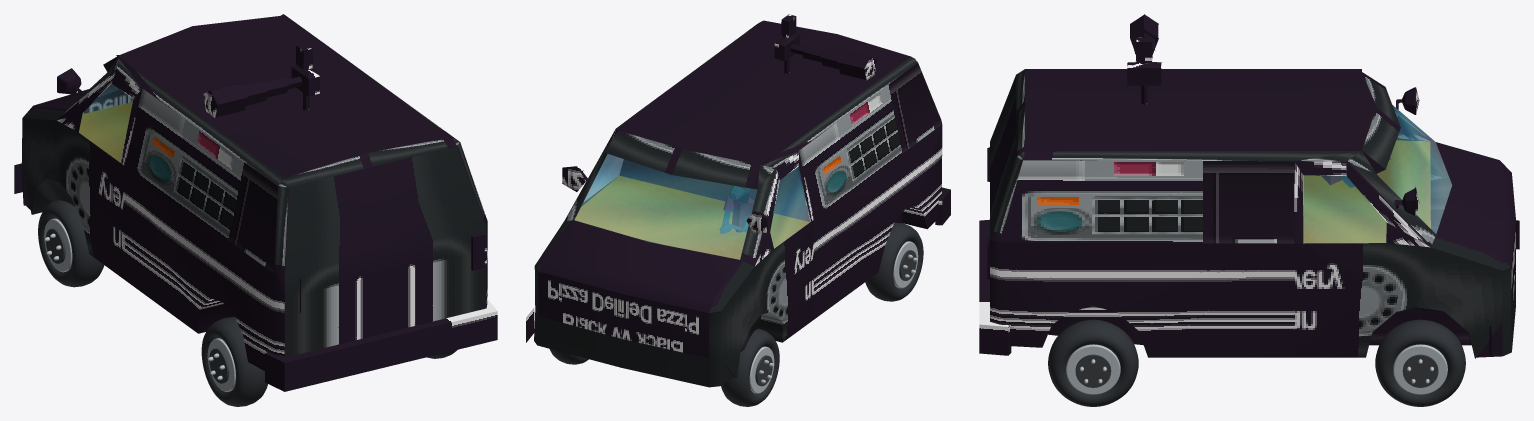
File: car-pizza.glb
The picture shows the model from 3 angles, left to right: view 1: azimuth 30°, elevation 25°; view 2: azimuth 150°, elevation 25°; view 3: azimuth 270°, elevation 25°; orthographic projection. The views are drawn at different scales.
Visible parts, largest first — view 1: pizzaShape.001, pizzacamShape, Rounded tire.145, Rounded tire.146, pizzaShape.002, pizzaShape, Alloy rim.146, Alloy rim.145, lightsShape, Rim recess.290, Rim recess.292; view 2: pizzaShape.001, pizzaShape.002, pizzaShape, pizzacamShape, Rounded tire.145, Rounded tire.146, lightsShape, Alloy rim.146, Alloy rim.145, Rim recess.290, Rim recess.292; view 3: pizzaShape.001, pizzaShape.002, pizzaShape, Rounded tire.144, Rounded tire.147, pizzacamShape, Alloy rim.144, Alloy rim.147, Rim recess.289, Rim recess.295, lightsShape.
Boxes of the visible parts, box(x1,y1,x2,y2) form: pizzaShape.001: box(14, 14, 497, 391); pizzacamShape: box(203, 43, 319, 117); Rounded tire.145: box(201, 317, 267, 406); Rounded tire.146: box(38, 200, 104, 287); pizzaShape.002: box(79, 83, 133, 162); pizzaShape: box(79, 102, 132, 161); Alloy rim.146: box(44, 218, 72, 272); Alloy rim.145: box(207, 338, 235, 391); lightsShape: box(57, 68, 85, 96); Rim recess.290: box(209, 348, 229, 383); Rim recess.292: box(46, 228, 65, 263); pizzaShape.001: box(526, 20, 950, 387); pizzaShape.002: box(574, 154, 810, 259); pizzaShape: box(574, 176, 809, 259); pizzacamShape: box(774, 14, 876, 80); Rounded tire.145: box(865, 222, 923, 301); Rounded tire.146: box(721, 328, 779, 406); lightsShape: box(562, 166, 767, 233); Alloy rim.146: box(749, 346, 774, 393); Alloy rim.145: box(893, 241, 918, 288); Rim recess.290: box(899, 250, 916, 280); Rim recess.292: box(755, 355, 772, 386); pizzaShape.001: box(979, 69, 1519, 358); pizzaShape.002: box(1303, 105, 1451, 243); pizzaShape: box(1303, 140, 1430, 243); Rounded tire.144: box(1048, 319, 1138, 406); Rounded tire.147: box(1375, 319, 1465, 406); pizzacamShape: box(1127, 14, 1161, 105); Alloy rim.144: box(1066, 344, 1120, 394); Alloy rim.147: box(1393, 344, 1447, 394); Rim recess.289: box(1075, 354, 1111, 387); Rim recess.295: box(1402, 354, 1438, 387); lightsShape: box(1394, 87, 1419, 216).
Bounding box in the file's own units: 2.44 × 3.06 × 4.75.
Materials: 6 (3 with a texture image).
